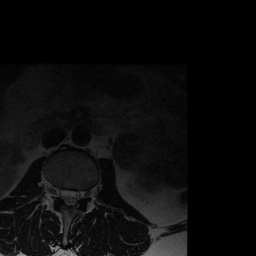CCS_stenosis: (67, 180, 73, 212)
LFS_normal: (81, 179, 88, 205)
LLS_normal: (73, 180, 81, 208)
RFS_normal: (51, 177, 59, 204)
RLS_normal: (59, 180, 66, 207)
